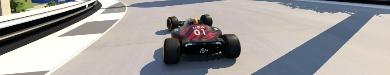Car: (161, 13, 240, 63)
obstacles-Borders: (0, 0, 97, 58)
